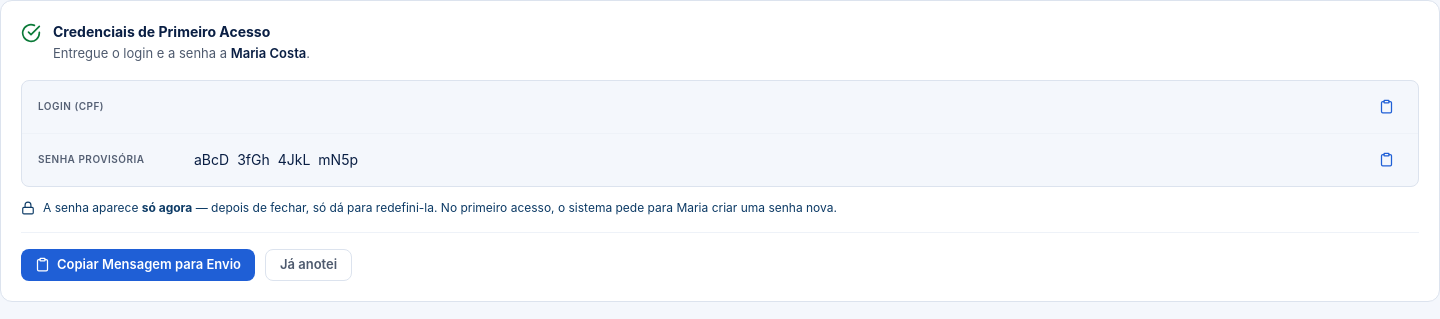
credenciais de primeiro acesso › voltar da confirmação mantém a senha na tela
Click the button "Já anotei": click(309, 265) x1=265 y1=249 x2=352 y2=281
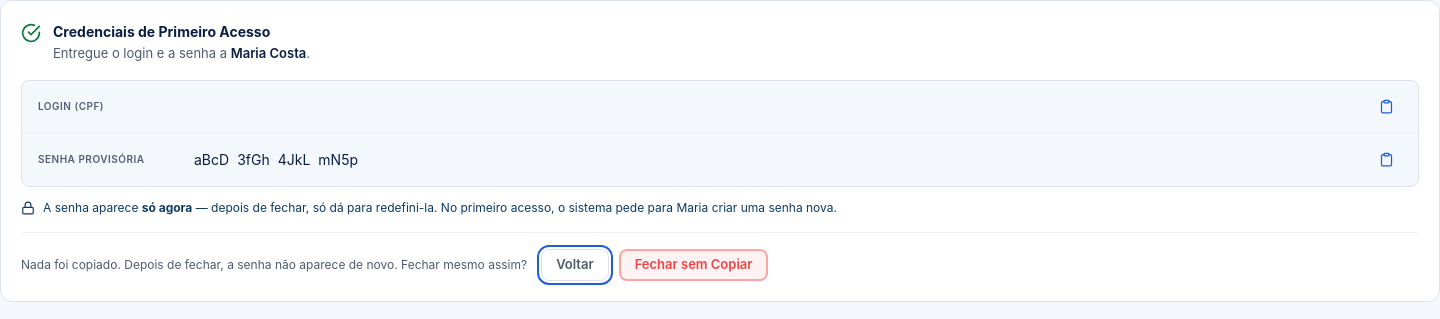
Click the button "Voltar": click(575, 265) x1=541 y1=249 x2=609 y2=281
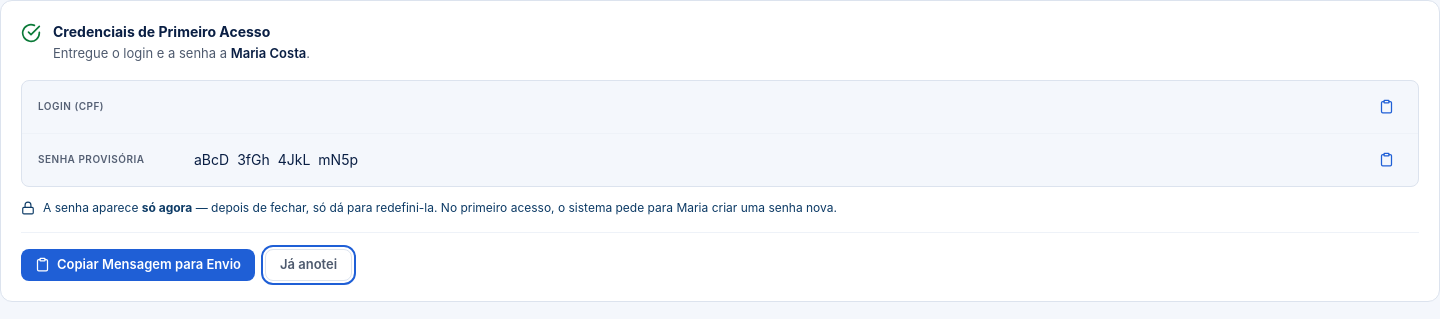
Check: the button "Já anotei" is shown, box x1=265 y1=249 x2=352 y2=281
